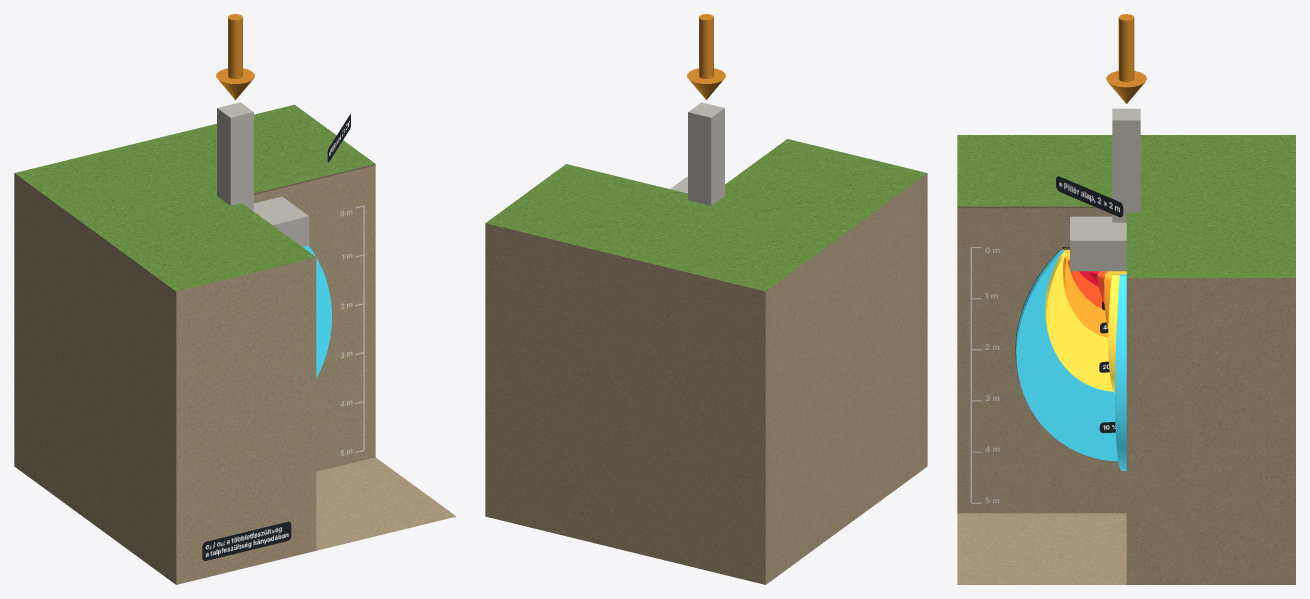
Rendered from feszultseghagyma-feliratok.glb.
The picture shows the model from 3 angles, left to right: view 1: azimuth 30°, elevation 25°; view 2: azimuth 150°, elevation 25°; view 3: azimuth 270°, elevation 25°; orthographic projection. The views are drawn at different scales.
Parts seen in each view (by area): view 1: Talaj, Metszet_A, Pillerlap, Felirat, Hagyma_0_1; view 2: Talaj, Pillerlap; view 3: Talaj, Metszet_B, Hagyma_0_1, Pillerlap, Hagyma_0_2, Hagyma_0_4, Felirat, Hagyma_0_6.
Boxes of the visible parts, left/top/right/bottom form: Talaj: left=14, top=104, right=456, bottom=584; Metszet_A: left=254, top=164, right=375, bottom=471; Pillerlap: left=216, top=14, right=309, bottom=246; Felirat: left=202, top=521, right=291, bottom=560; Hagyma_0_1: left=303, top=245, right=331, bottom=378; Talaj: left=485, top=139, right=927, bottom=584; Pillerlap: left=670, top=14, right=725, bottom=205; Talaj: left=957, top=135, right=1295, bottom=584; Metszet_B: left=957, top=206, right=1126, bottom=513; Hagyma_0_1: left=1016, top=248, right=1126, bottom=470; Pillerlap: left=1070, top=14, right=1146, bottom=271; Hagyma_0_2: left=1045, top=249, right=1119, bottom=393; Hagyma_0_4: left=1063, top=249, right=1126, bottom=337; Felirat: left=1056, top=176, right=1123, bottom=217; Hagyma_0_6: left=1068, top=259, right=1107, bottom=308.
Size of the model in its own units: 0.6 by 0.97 by 0.602.
Materials: 23 (16 with a texture image).
